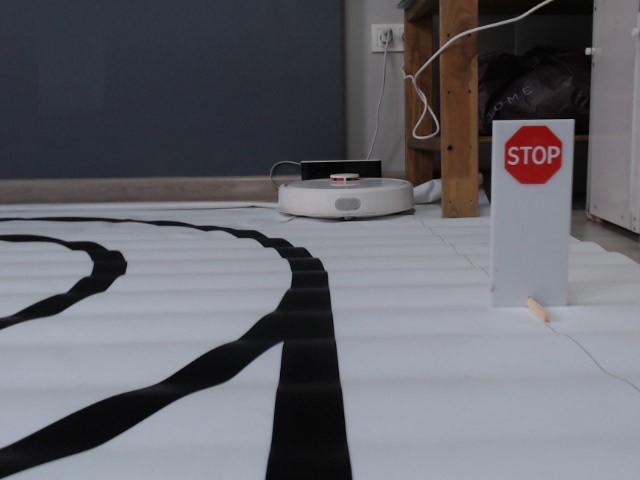Stop: (501, 124, 564, 186)
